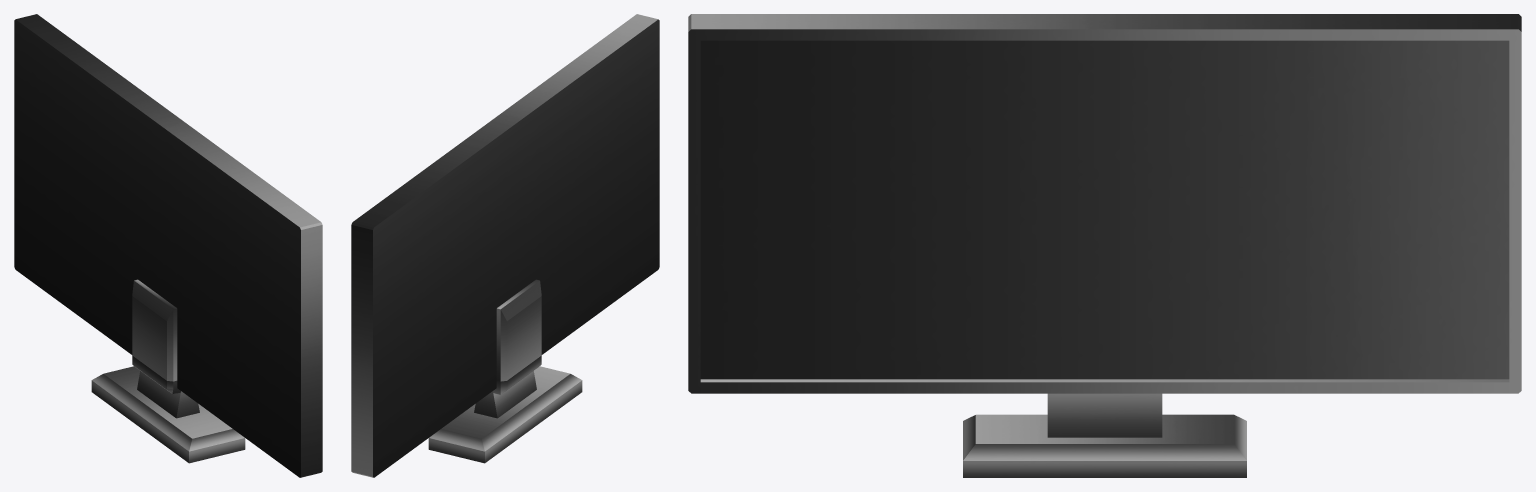
The model's file is SM_plasmaTVFinal.fbx.
The picture shows the model from 3 angles, left to right: view 1: azimuth 30°, elevation 25°; view 2: azimuth 150°, elevation 25°; view 3: azimuth 270°, elevation 25°; orthographic projection. The views are drawn at different scales.
Parts seen in each view (by area): view 1: pCube10; view 2: pCube10; view 3: pCube10.
Part boxes in pixels (bbox=[...]): pCube10: bbox=[14, 14, 322, 477]; pCube10: bbox=[351, 14, 659, 477]; pCube10: bbox=[688, 14, 1521, 477].
Bounding box in the file's own units: 180 × 916 × 1586.
